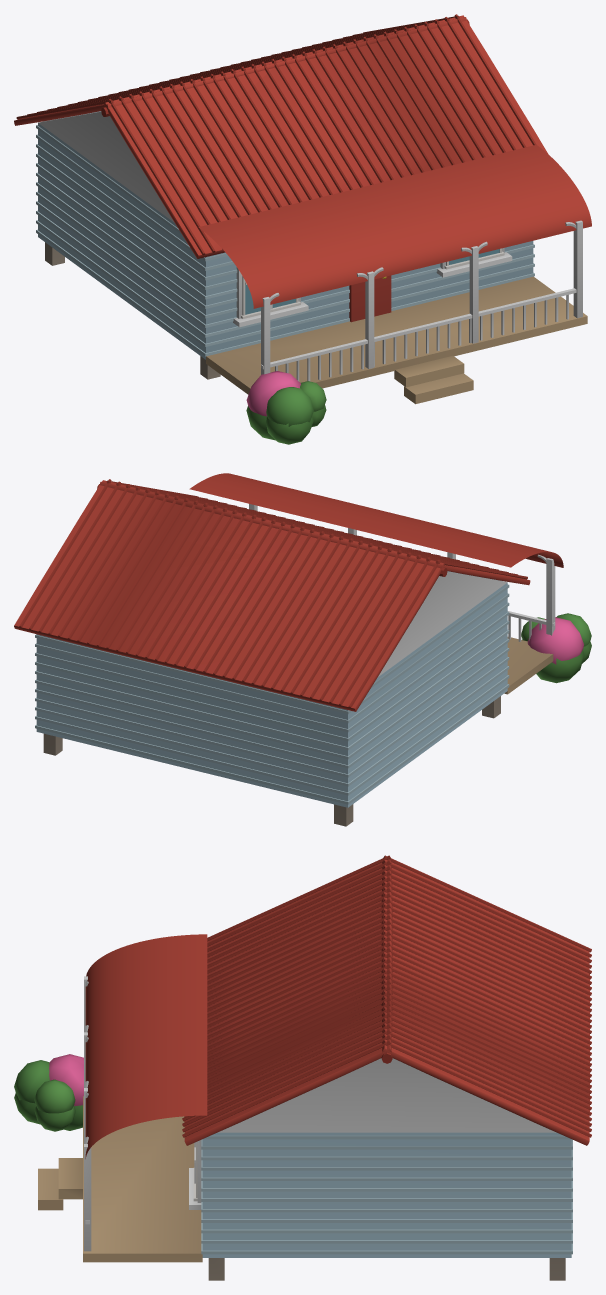
File: hs-1fsmxpx.glb
3 views of the same model, one above another, from view 1: azimuth 30°, elevation 25°; view 2: azimuth 150°, elevation 25°; view 3: azimuth 270°, elevation 25° (orthographic). The views are drawn at different scales.
Size of the model in its own units: 10 by 6.25 by 12.54.
